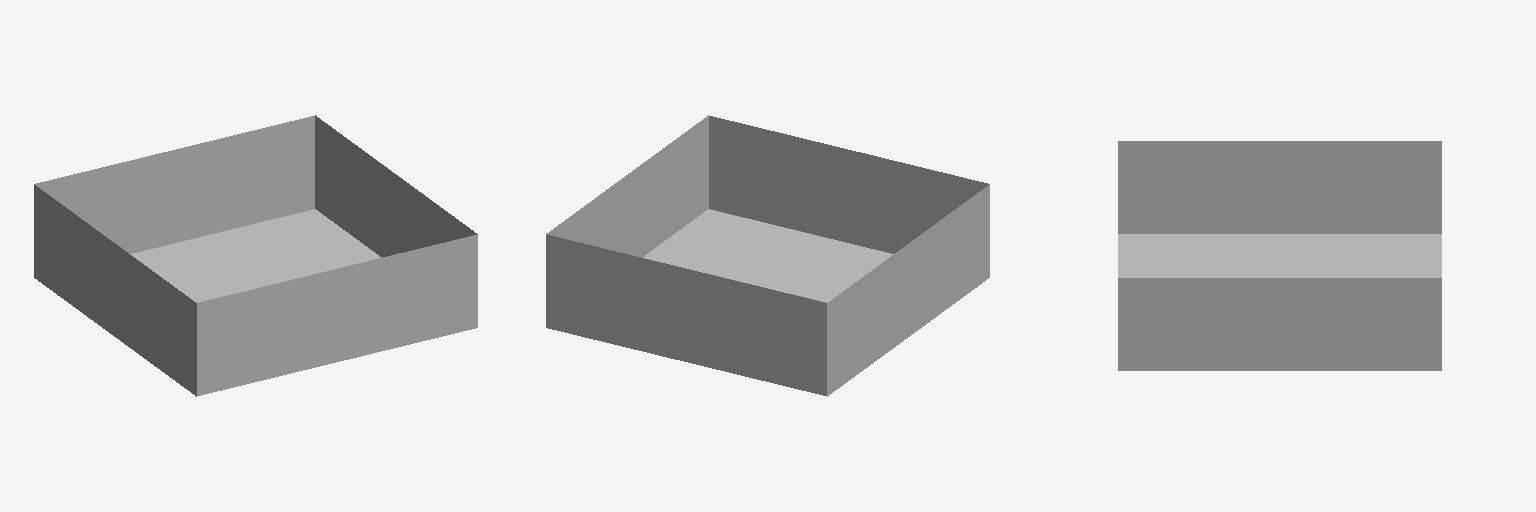
File: cage.obj
3 renders of one model, left to right at view 1: azimuth 30°, elevation 25°; view 2: azimuth 150°, elevation 25°; view 3: azimuth 270°, elevation 25°, orthographic.
Visible parts, largest first — view 1: Plane; view 2: Plane; view 3: Plane.
Part boxes in pixels (x1,y1,x2,y2): Plane: (34,115,477,396); Plane: (546,115,989,396); Plane: (1118,141,1441,370).
Size of the model in its own units: 500 by 159 by 500.